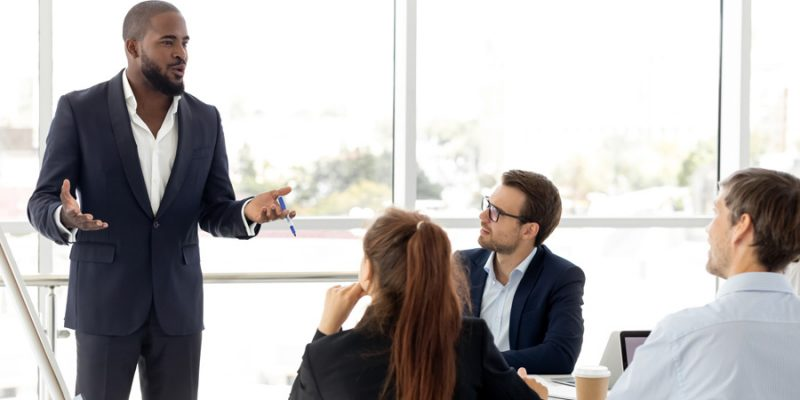Person: (27, 1, 298, 400), (288, 207, 550, 400), (606, 168, 800, 399), (451, 169, 586, 375)
